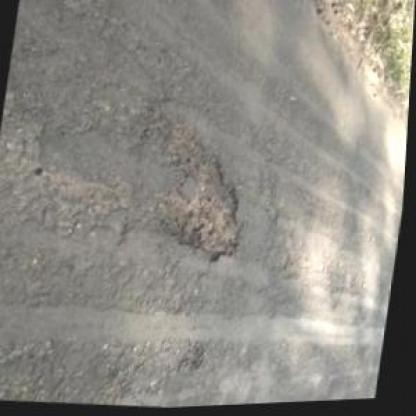pothole: (152, 133, 256, 271), (176, 338, 211, 374)
